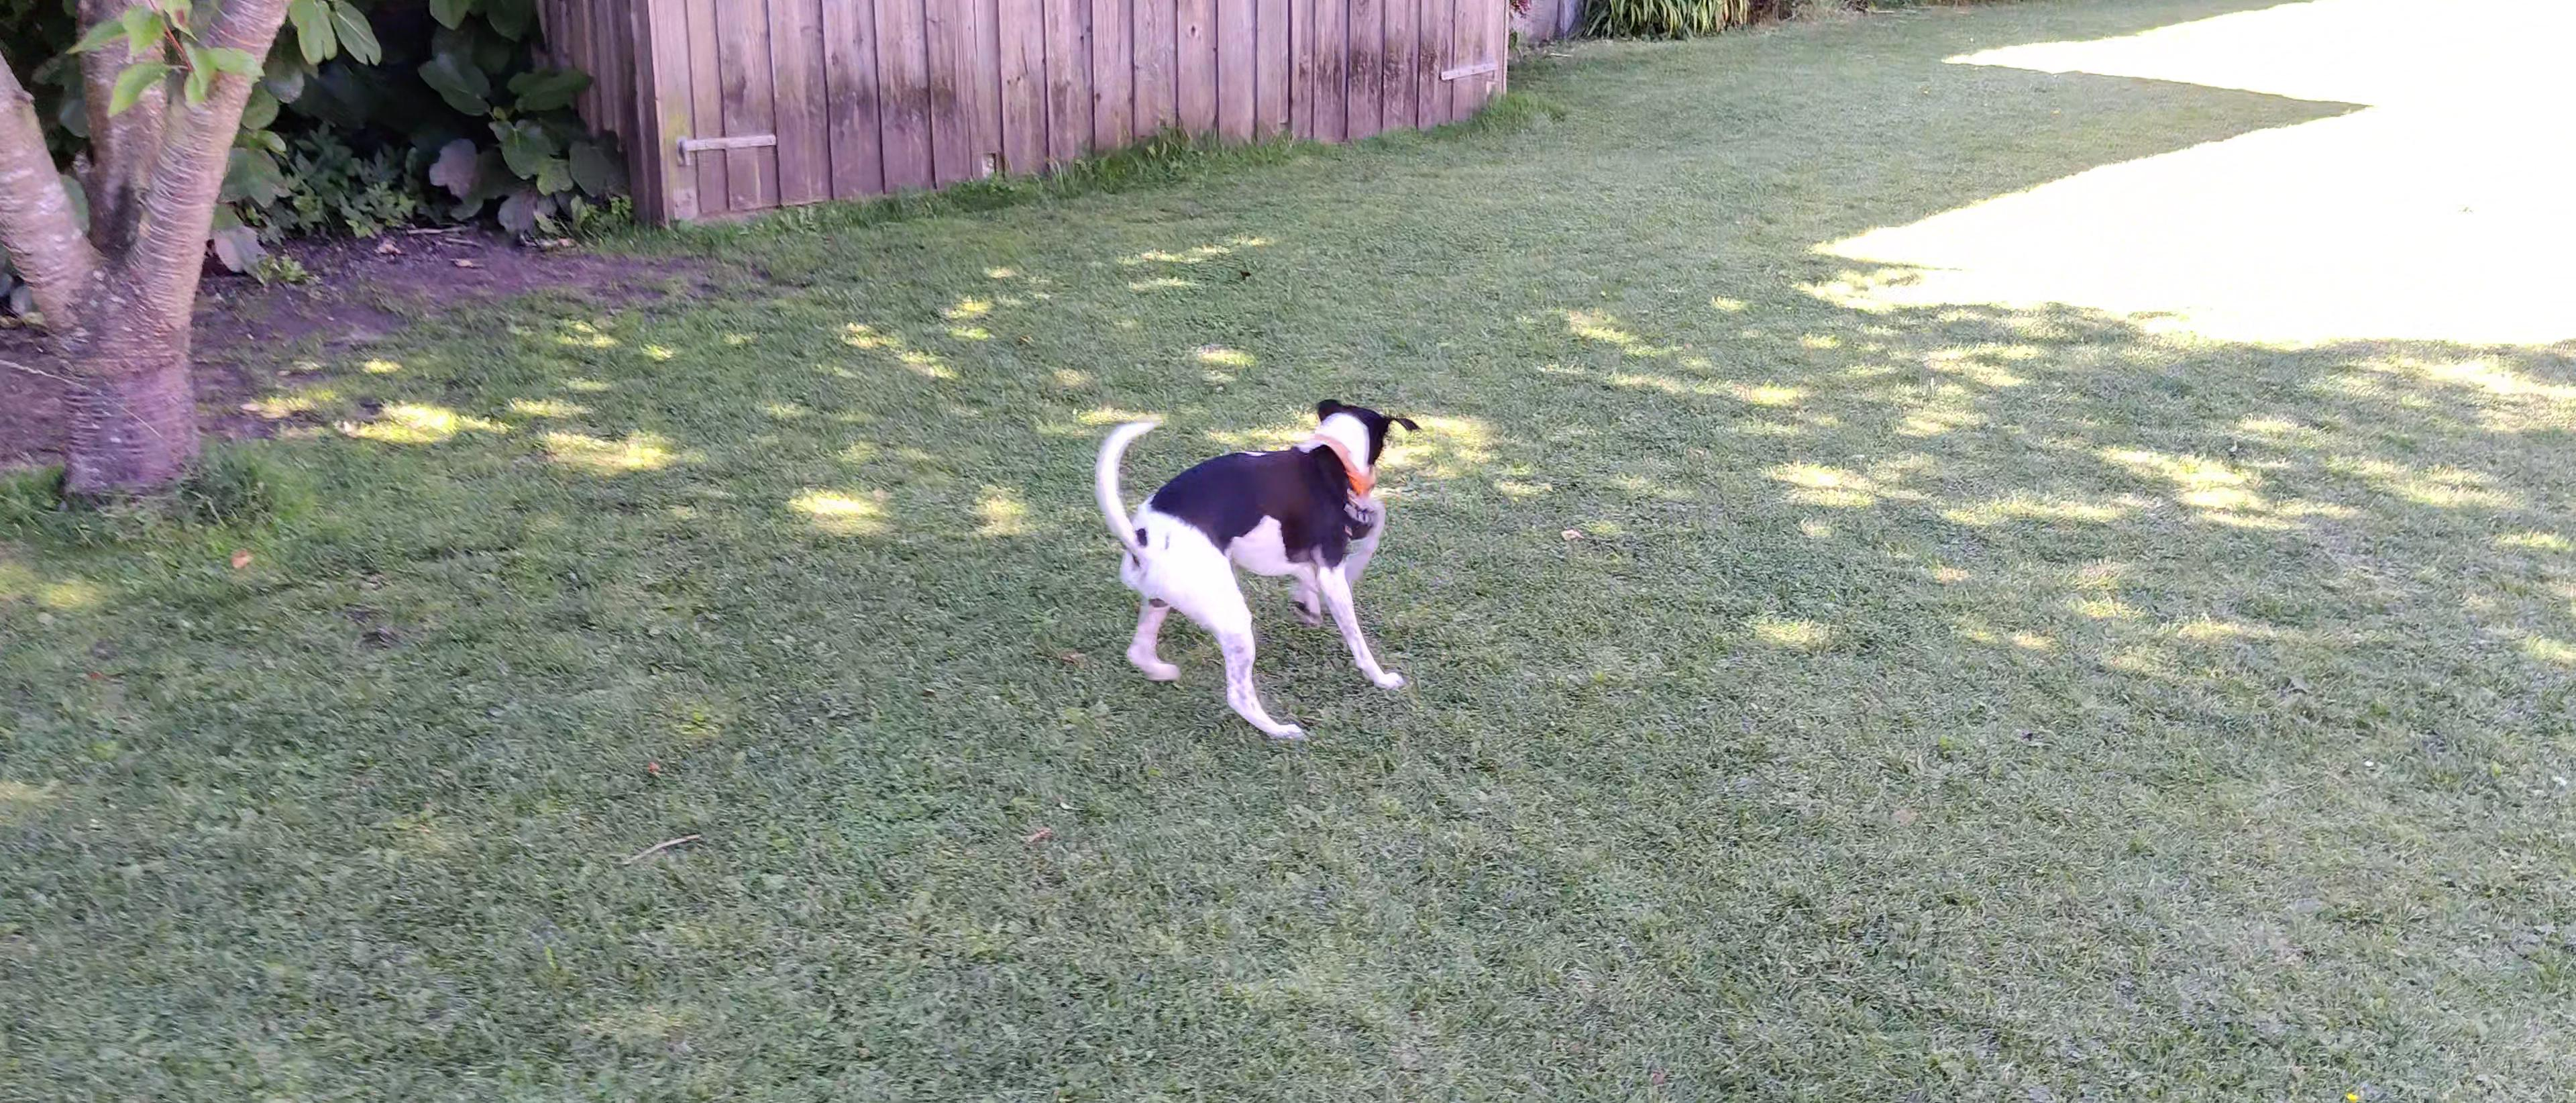Dog: (1089, 391, 1424, 745)
